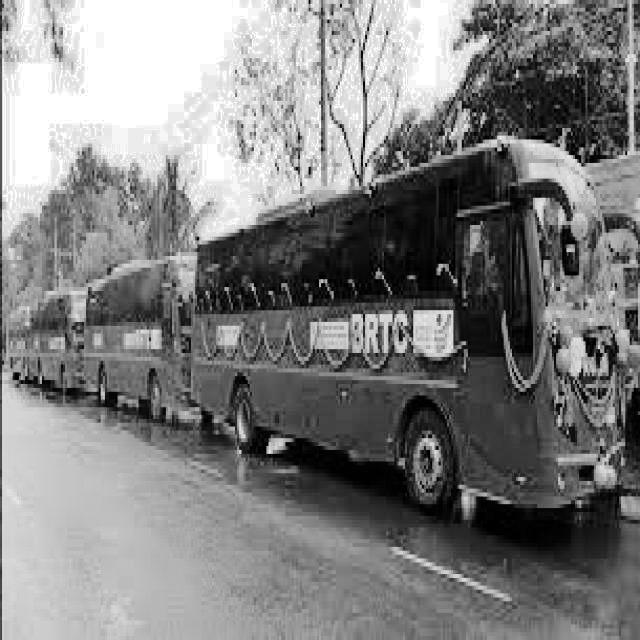Bus: (184, 118, 628, 530), (82, 243, 202, 457), (32, 270, 96, 424), (6, 287, 34, 395)
